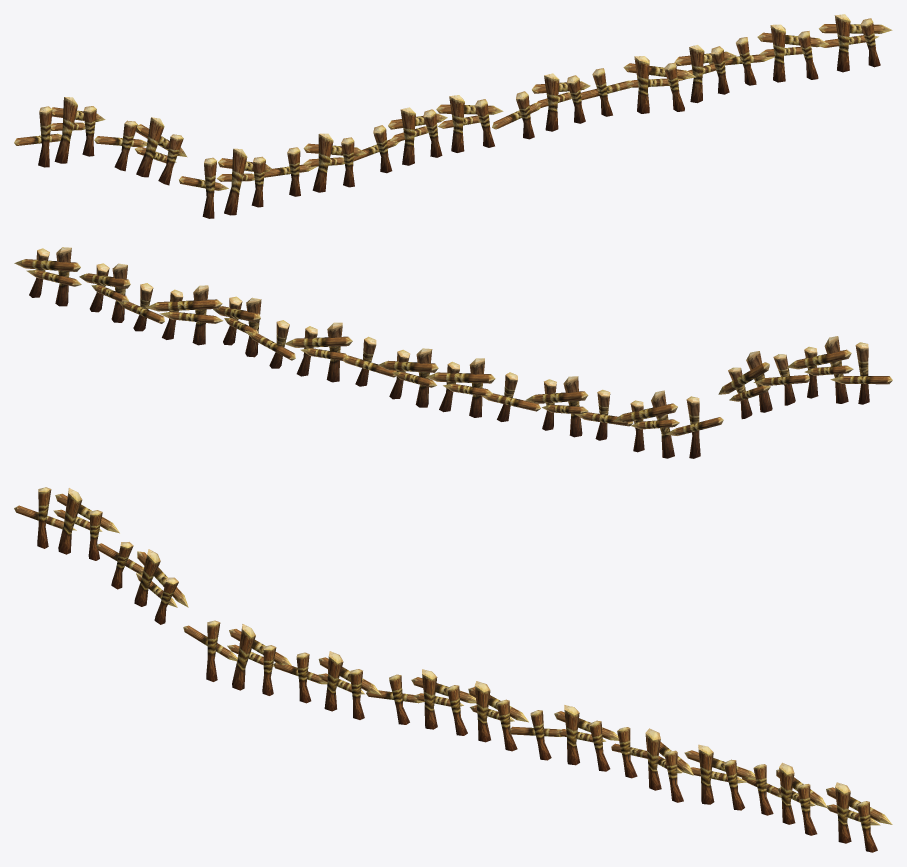
The model's file is a_Seffence01c.glb.
3 views of the same model, one above another, from view 1: azimuth 30°, elevation 25°; view 2: azimuth 150°, elevation 25°; view 3: azimuth 330°, elevation 25° (orthographic).
Parts seen in each view (by area): view 1: a_Seffence01c; view 2: a_Seffence01c; view 3: a_Seffence01c.
Boxes of the visible parts, <box> form: a_Seffence01c: <box>14,14,892,218</box>; a_Seffence01c: <box>14,247,892,458</box>; a_Seffence01c: <box>14,487,892,852</box>.
Size of the model in its own units: 17.31 by 3.02 by 0.8407.
1 material, 1 textured.
